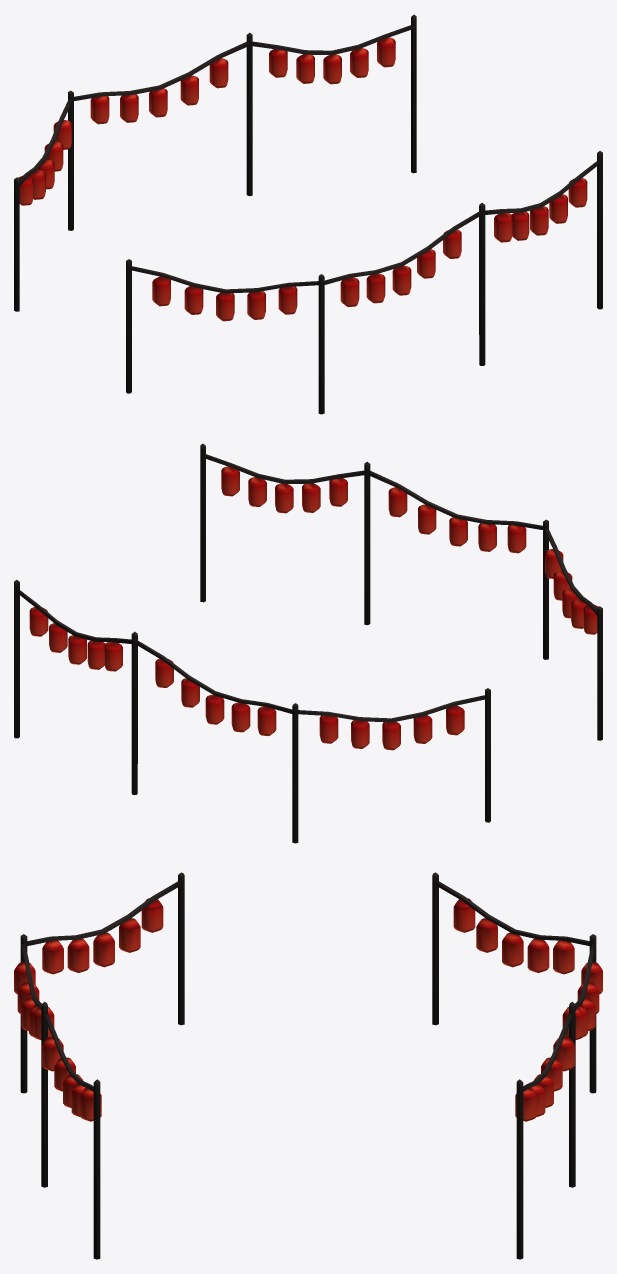
The model's file is HL_Top.fbx.
The picture shows the model from 3 angles, top to bottom: view 1: azimuth 30°, elevation 25°; view 2: azimuth 150°, elevation 25°; view 3: azimuth 270°, elevation 25°; orthographic projection. The views are drawn at different scales.
Visible parts, largest first — view 1: HL_Top; view 2: HL_Top; view 3: HL_Top.
Part boxes in pixels (x1=…): HL_Top: x1=14, y1=14, x2=602, y2=414; HL_Top: x1=14, y1=443, x2=602, y2=843; HL_Top: x1=14, y1=872, x2=602, y2=1259.
Bounding box in the file's own units: 2411 × 855 × 2467.
